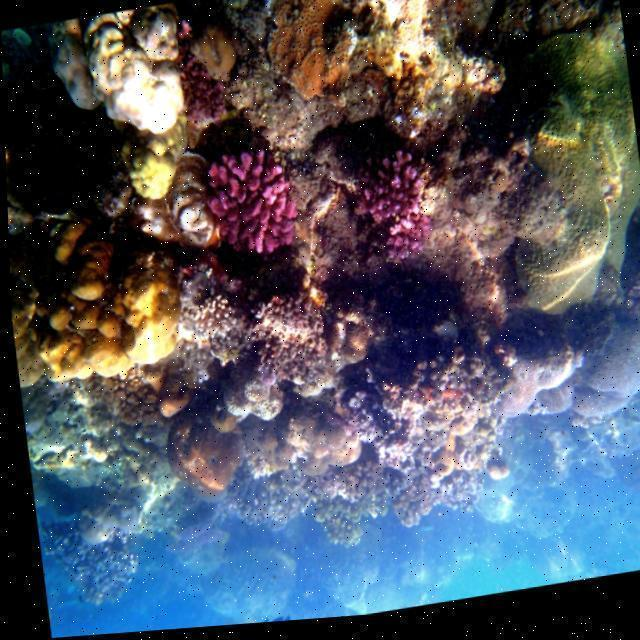Healthy Coral: (12, 244, 187, 391), (209, 147, 320, 270), (349, 139, 440, 253), (189, 34, 245, 137)
